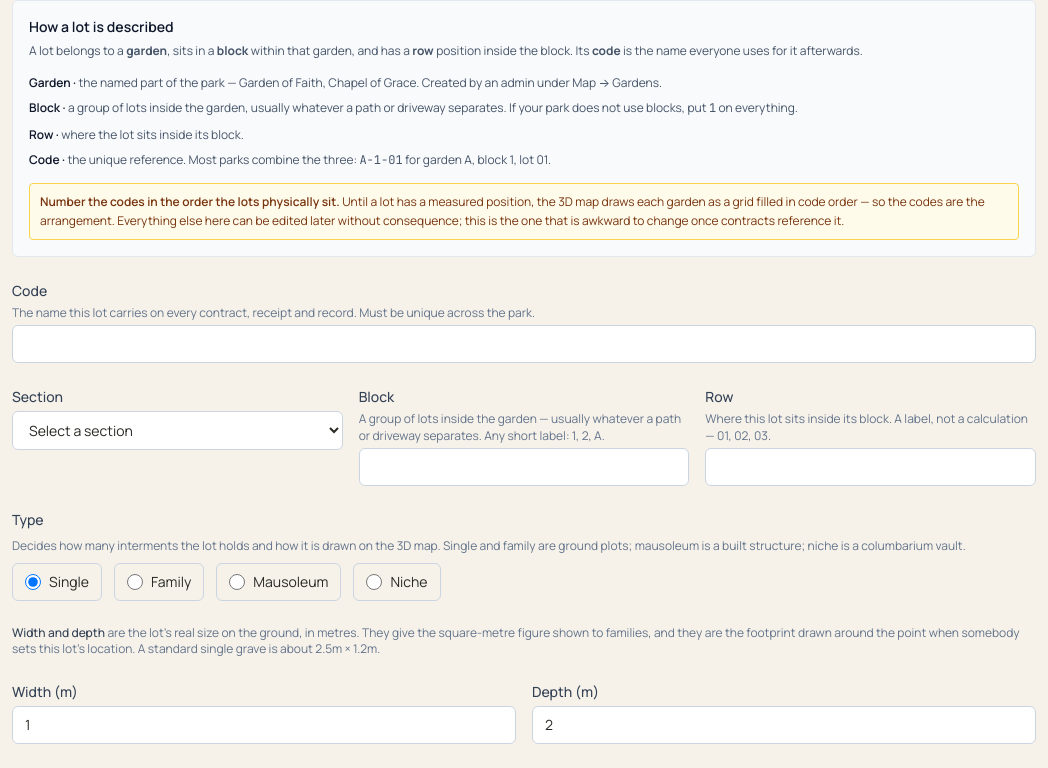
LotForm — section dropdown (Story 1.15) › blocks submit when no section is selected (placeholder option only)
Type "A-1-1" into the field labelled "Code" at (524, 344), box x1=12 y1=325 x2=1036 y2=363
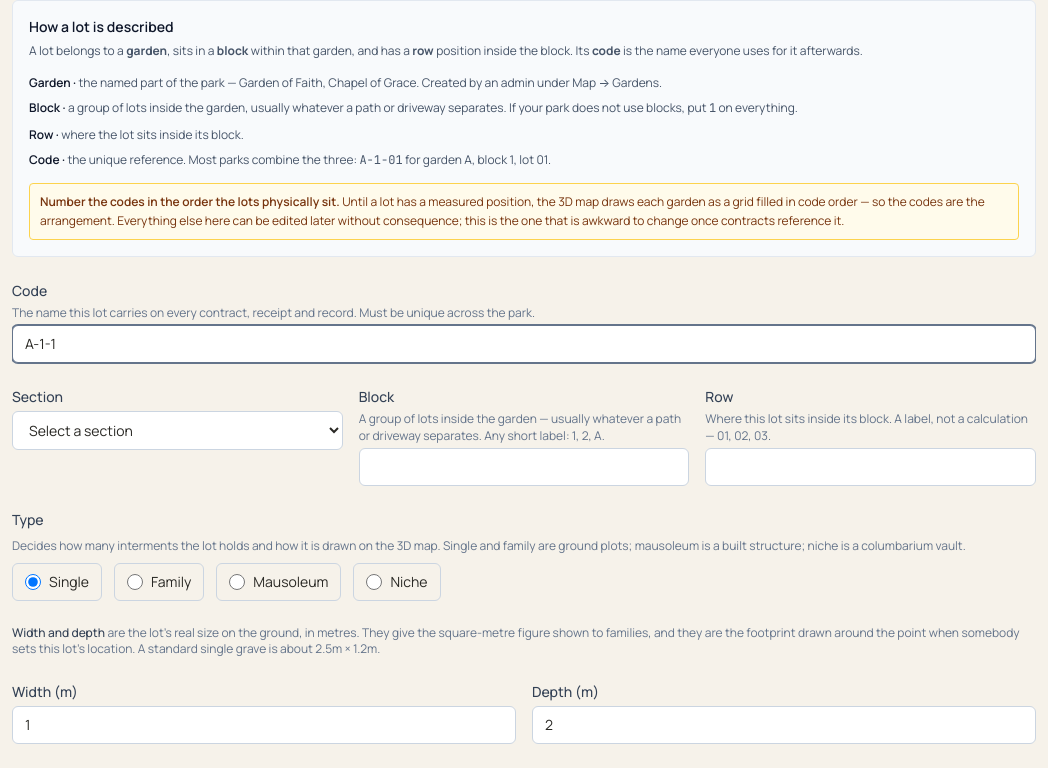
# Skip selecting a section.
Type "1" into the field labelled "Block" at (524, 467), box x1=359 y1=448 x2=689 y2=486
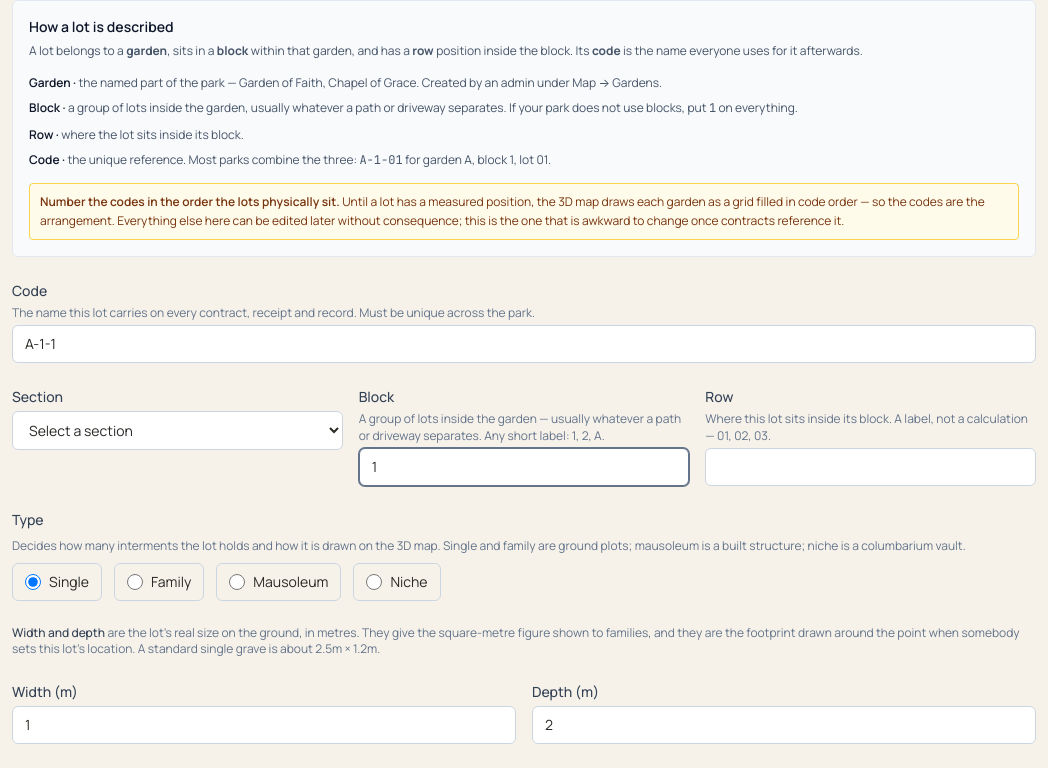
Type "1" into the field labelled "Row" at (871, 467), box x1=705 y1=448 x2=1036 y2=486
(page scrolled)
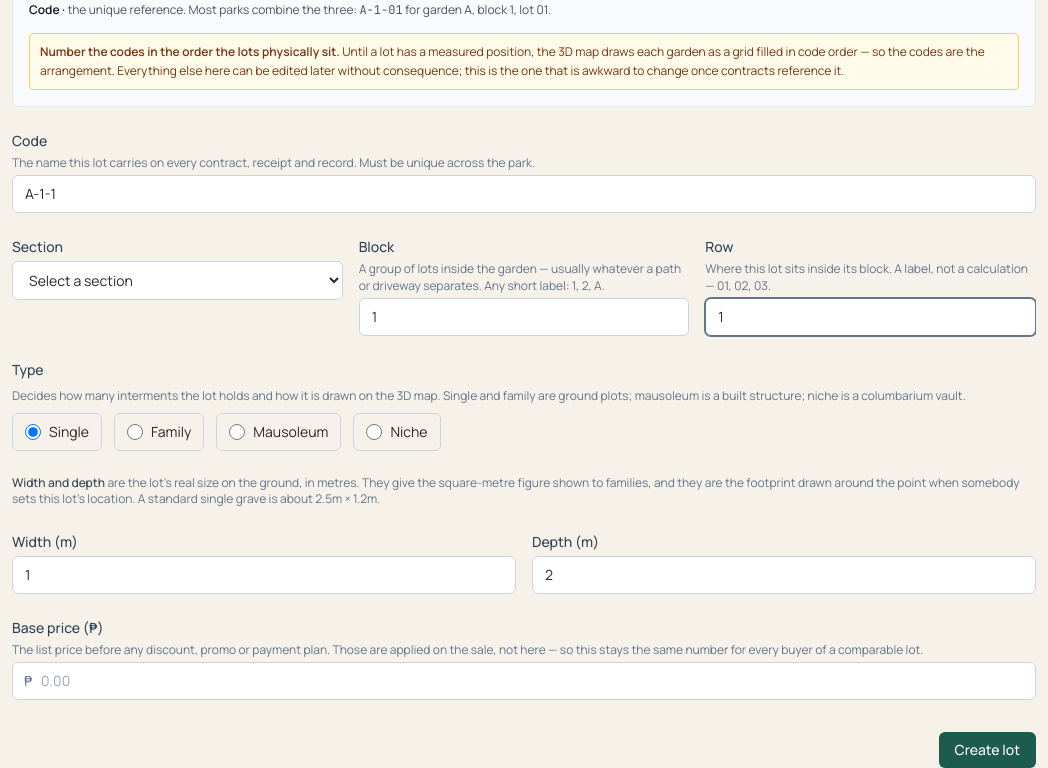
Type "1500" into the field labelled "Base price (₱)" at (524, 681), box x1=12 y1=662 x2=1036 y2=700
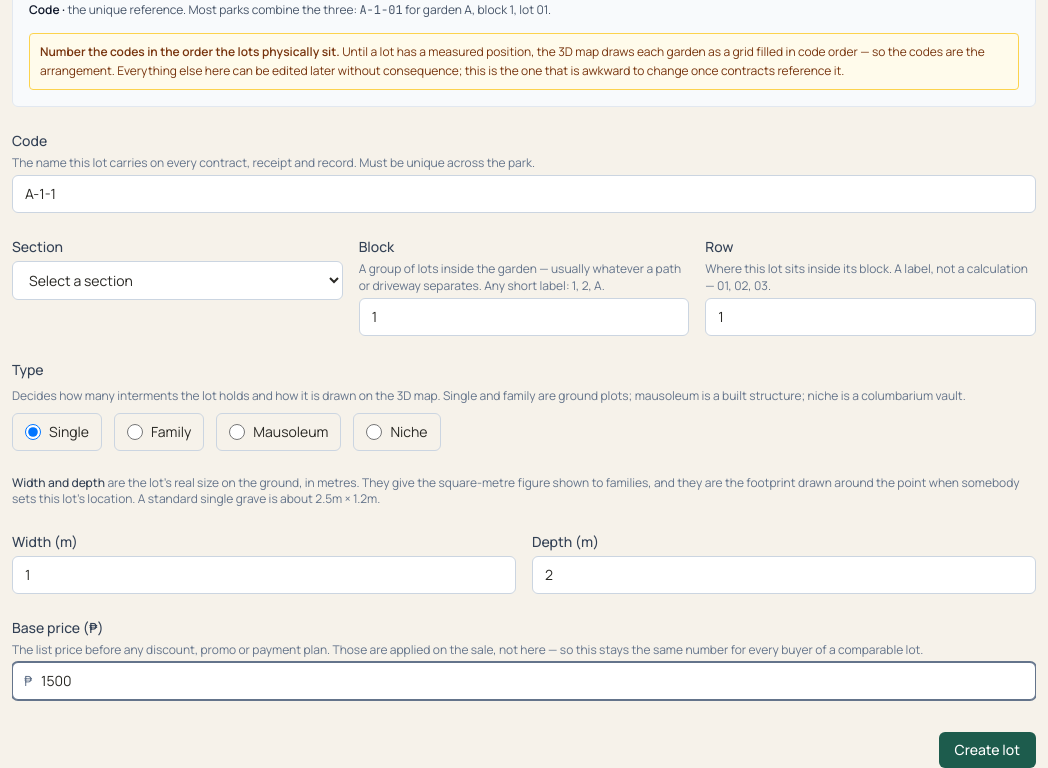
Click the button "Create lot" at (987, 750), box x1=939 y1=732 x2=1036 y2=767
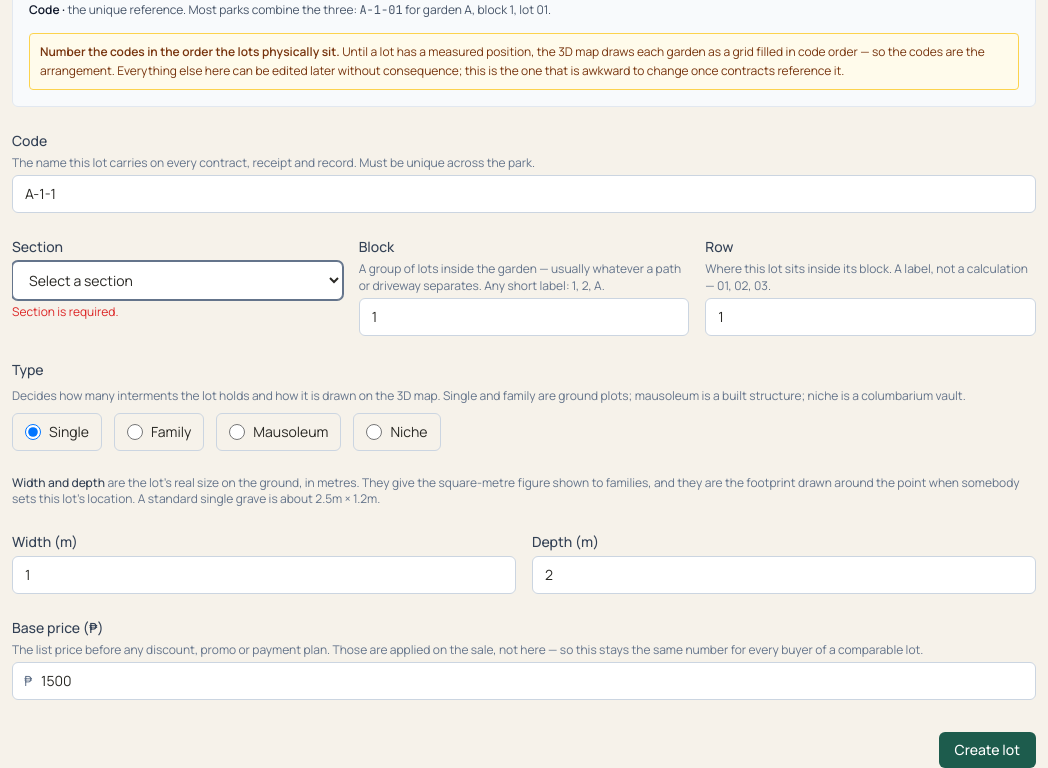
Check: the text "Section is required." is shown, box x1=12 y1=303 x2=118 y2=320
